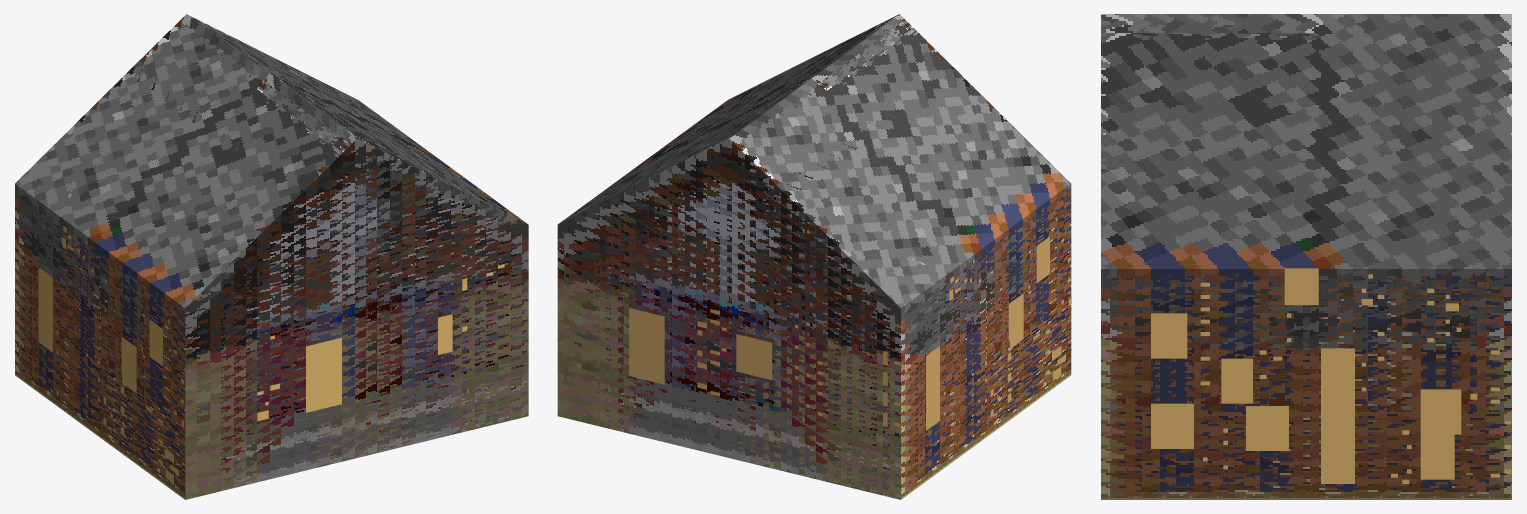
File: dum_3c_kostel.glb
The picture shows the model from 3 angles, left to right: view 1: azimuth 30°, elevation 25°; view 2: azimuth 150°, elevation 25°; view 3: azimuth 270°, elevation 25°; orthographic projection. The views are drawn at different scales.
Visible parts, largest first — view 1: object 1, noc; view 2: object 1, noc; view 3: object 1, noc.
Part boxes in pixels (left/top/right/bottom): object 1: left=15, top=14, right=528, bottom=499; noc: left=38, top=226, right=504, bottom=483; object 1: left=557, top=14, right=1071, bottom=499; noc: left=629, top=218, right=1071, bottom=456; object 1: left=1101, top=14, right=1511, bottom=499; noc: left=1151, top=268, right=1511, bottom=483.
Size of the model in its own units: 13.22 by 11.72 by 11.37.
1 material, 1 textured.
